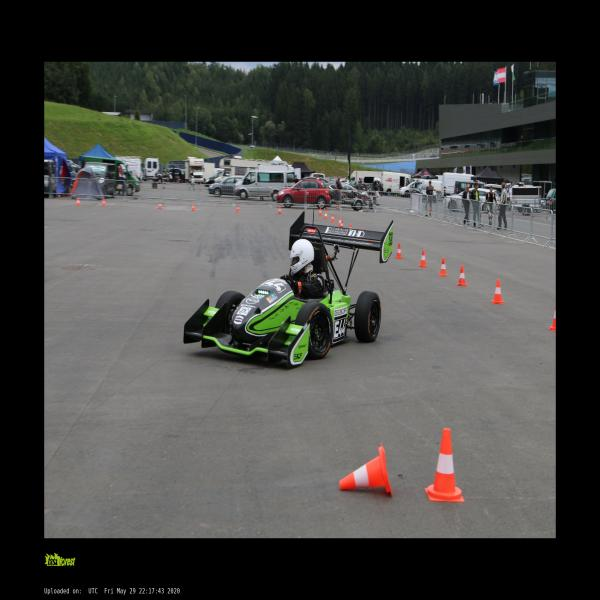orange_cone: (426, 428, 464, 503), (339, 444, 393, 496), (491, 280, 504, 304), (456, 265, 469, 286), (548, 299, 555, 331), (438, 257, 448, 277), (418, 250, 428, 267), (395, 243, 404, 259), (367, 235, 374, 248), (358, 228, 364, 239), (337, 217, 342, 226), (75, 198, 81, 205), (191, 203, 196, 211), (323, 211, 328, 219), (331, 214, 336, 222), (235, 205, 240, 212), (158, 201, 162, 209), (278, 206, 282, 214), (318, 208, 322, 215), (102, 199, 105, 206), (340, 222, 343, 228), (349, 224, 352, 228)
